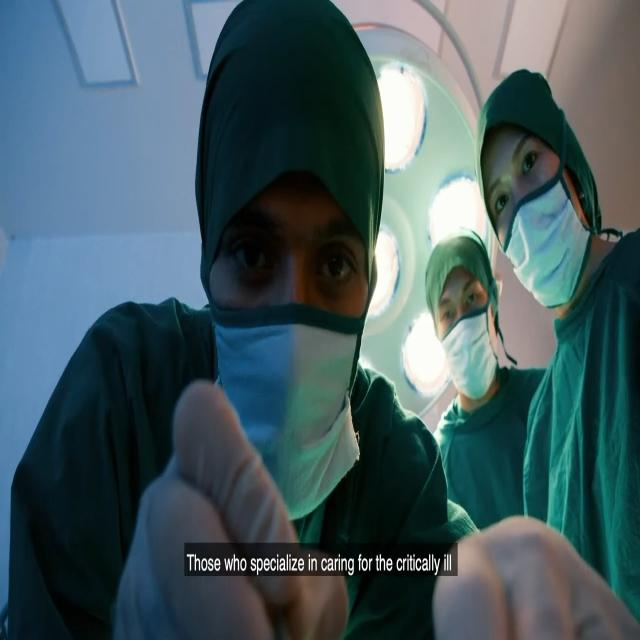Doctor: (175, 0, 405, 493), (405, 221, 511, 435)
Nurse: (464, 59, 616, 304)
